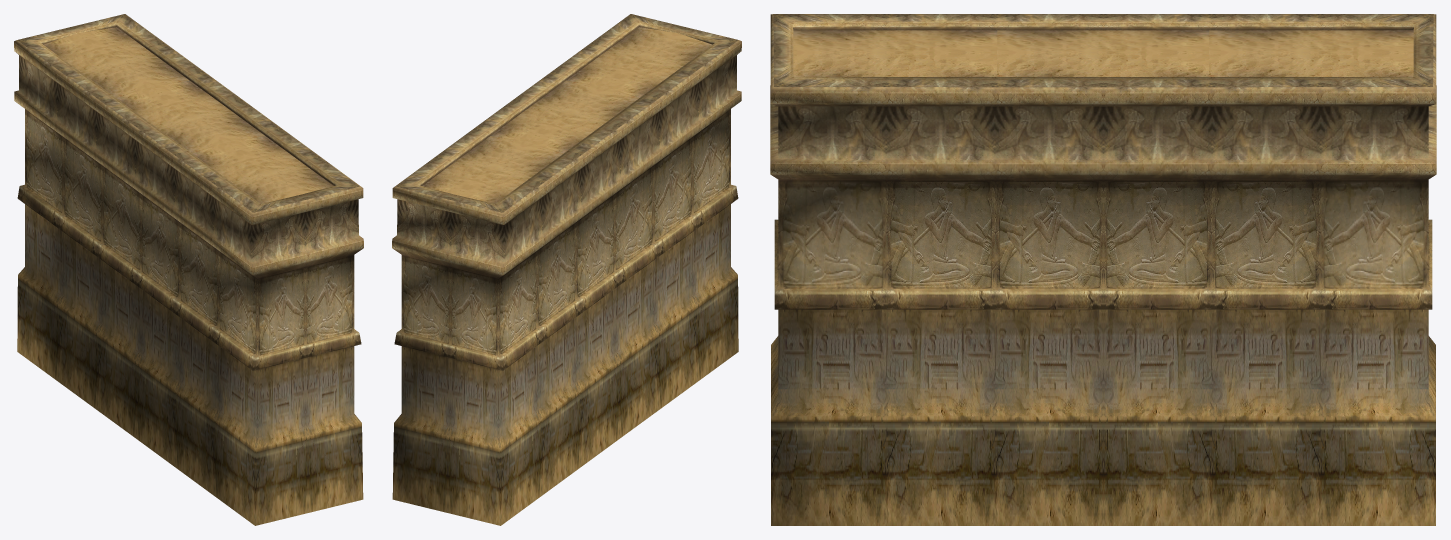
The model's file is S_Build_Desert058.FBX.
3 views of the same model, side by side, from view 1: azimuth 30°, elevation 25°; view 2: azimuth 150°, elevation 25°; view 3: azimuth 270°, elevation 25° (orthographic). The views are drawn at different scales.
Parts seen in each view (by area): view 1: S_Build_Desert058; view 2: S_Build_Desert058; view 3: S_Build_Desert058.
Part boxes in pixels (x1,y1,x2,y2): S_Build_Desert058: (14,14,363,525); S_Build_Desert058: (392,14,741,525); S_Build_Desert058: (770,14,1436,525).
Bounding box in the file's own units: 1676 × 6186 × 4482.
